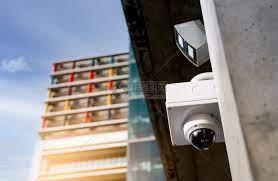maru: (165, 110, 225, 150)
